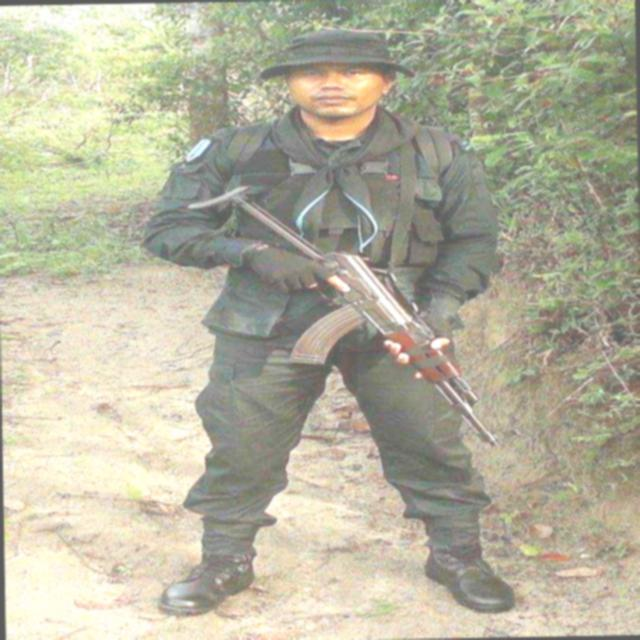ak: (204, 178, 510, 454)
